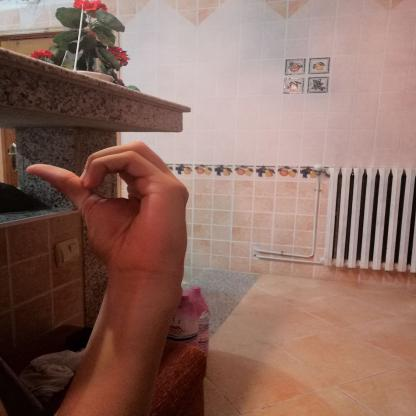WAW: (9, 128, 208, 298)
